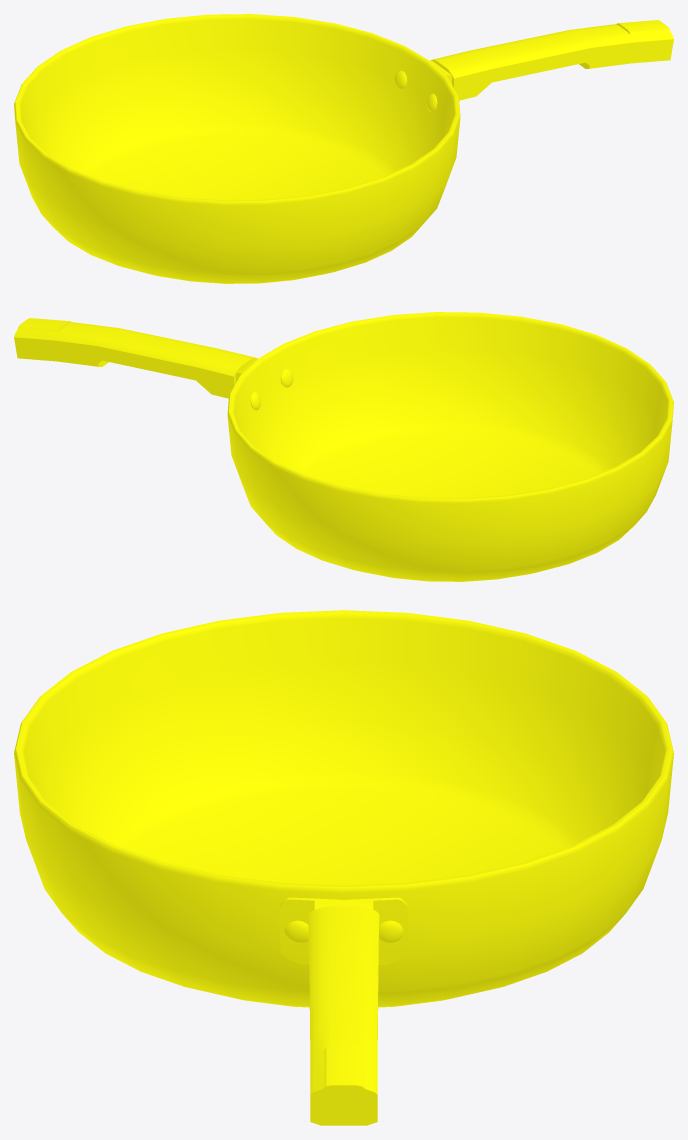
The model's file is SM_Frypan01.glb.
The picture shows the model from 3 angles, top to bottom: view 1: azimuth 30°, elevation 25°; view 2: azimuth 150°, elevation 25°; view 3: azimuth 270°, elevation 25°; orthographic projection. The views are drawn at different scales.
Parts seen in each view (by area): view 1: SM_Frypan01; view 2: SM_Frypan01; view 3: SM_Frypan01.
Boxes of the visible parts, x1=… form: SM_Frypan01: x1=14, y1=14, x2=673, y2=283; SM_Frypan01: x1=14, y1=312, x2=673, y2=581; SM_Frypan01: x1=14, y1=610, x2=673, y2=1125.
Size of the model in its own units: 0.7012 by 0.1113 by 0.438.
Materials: 1 (1 with a texture image).
